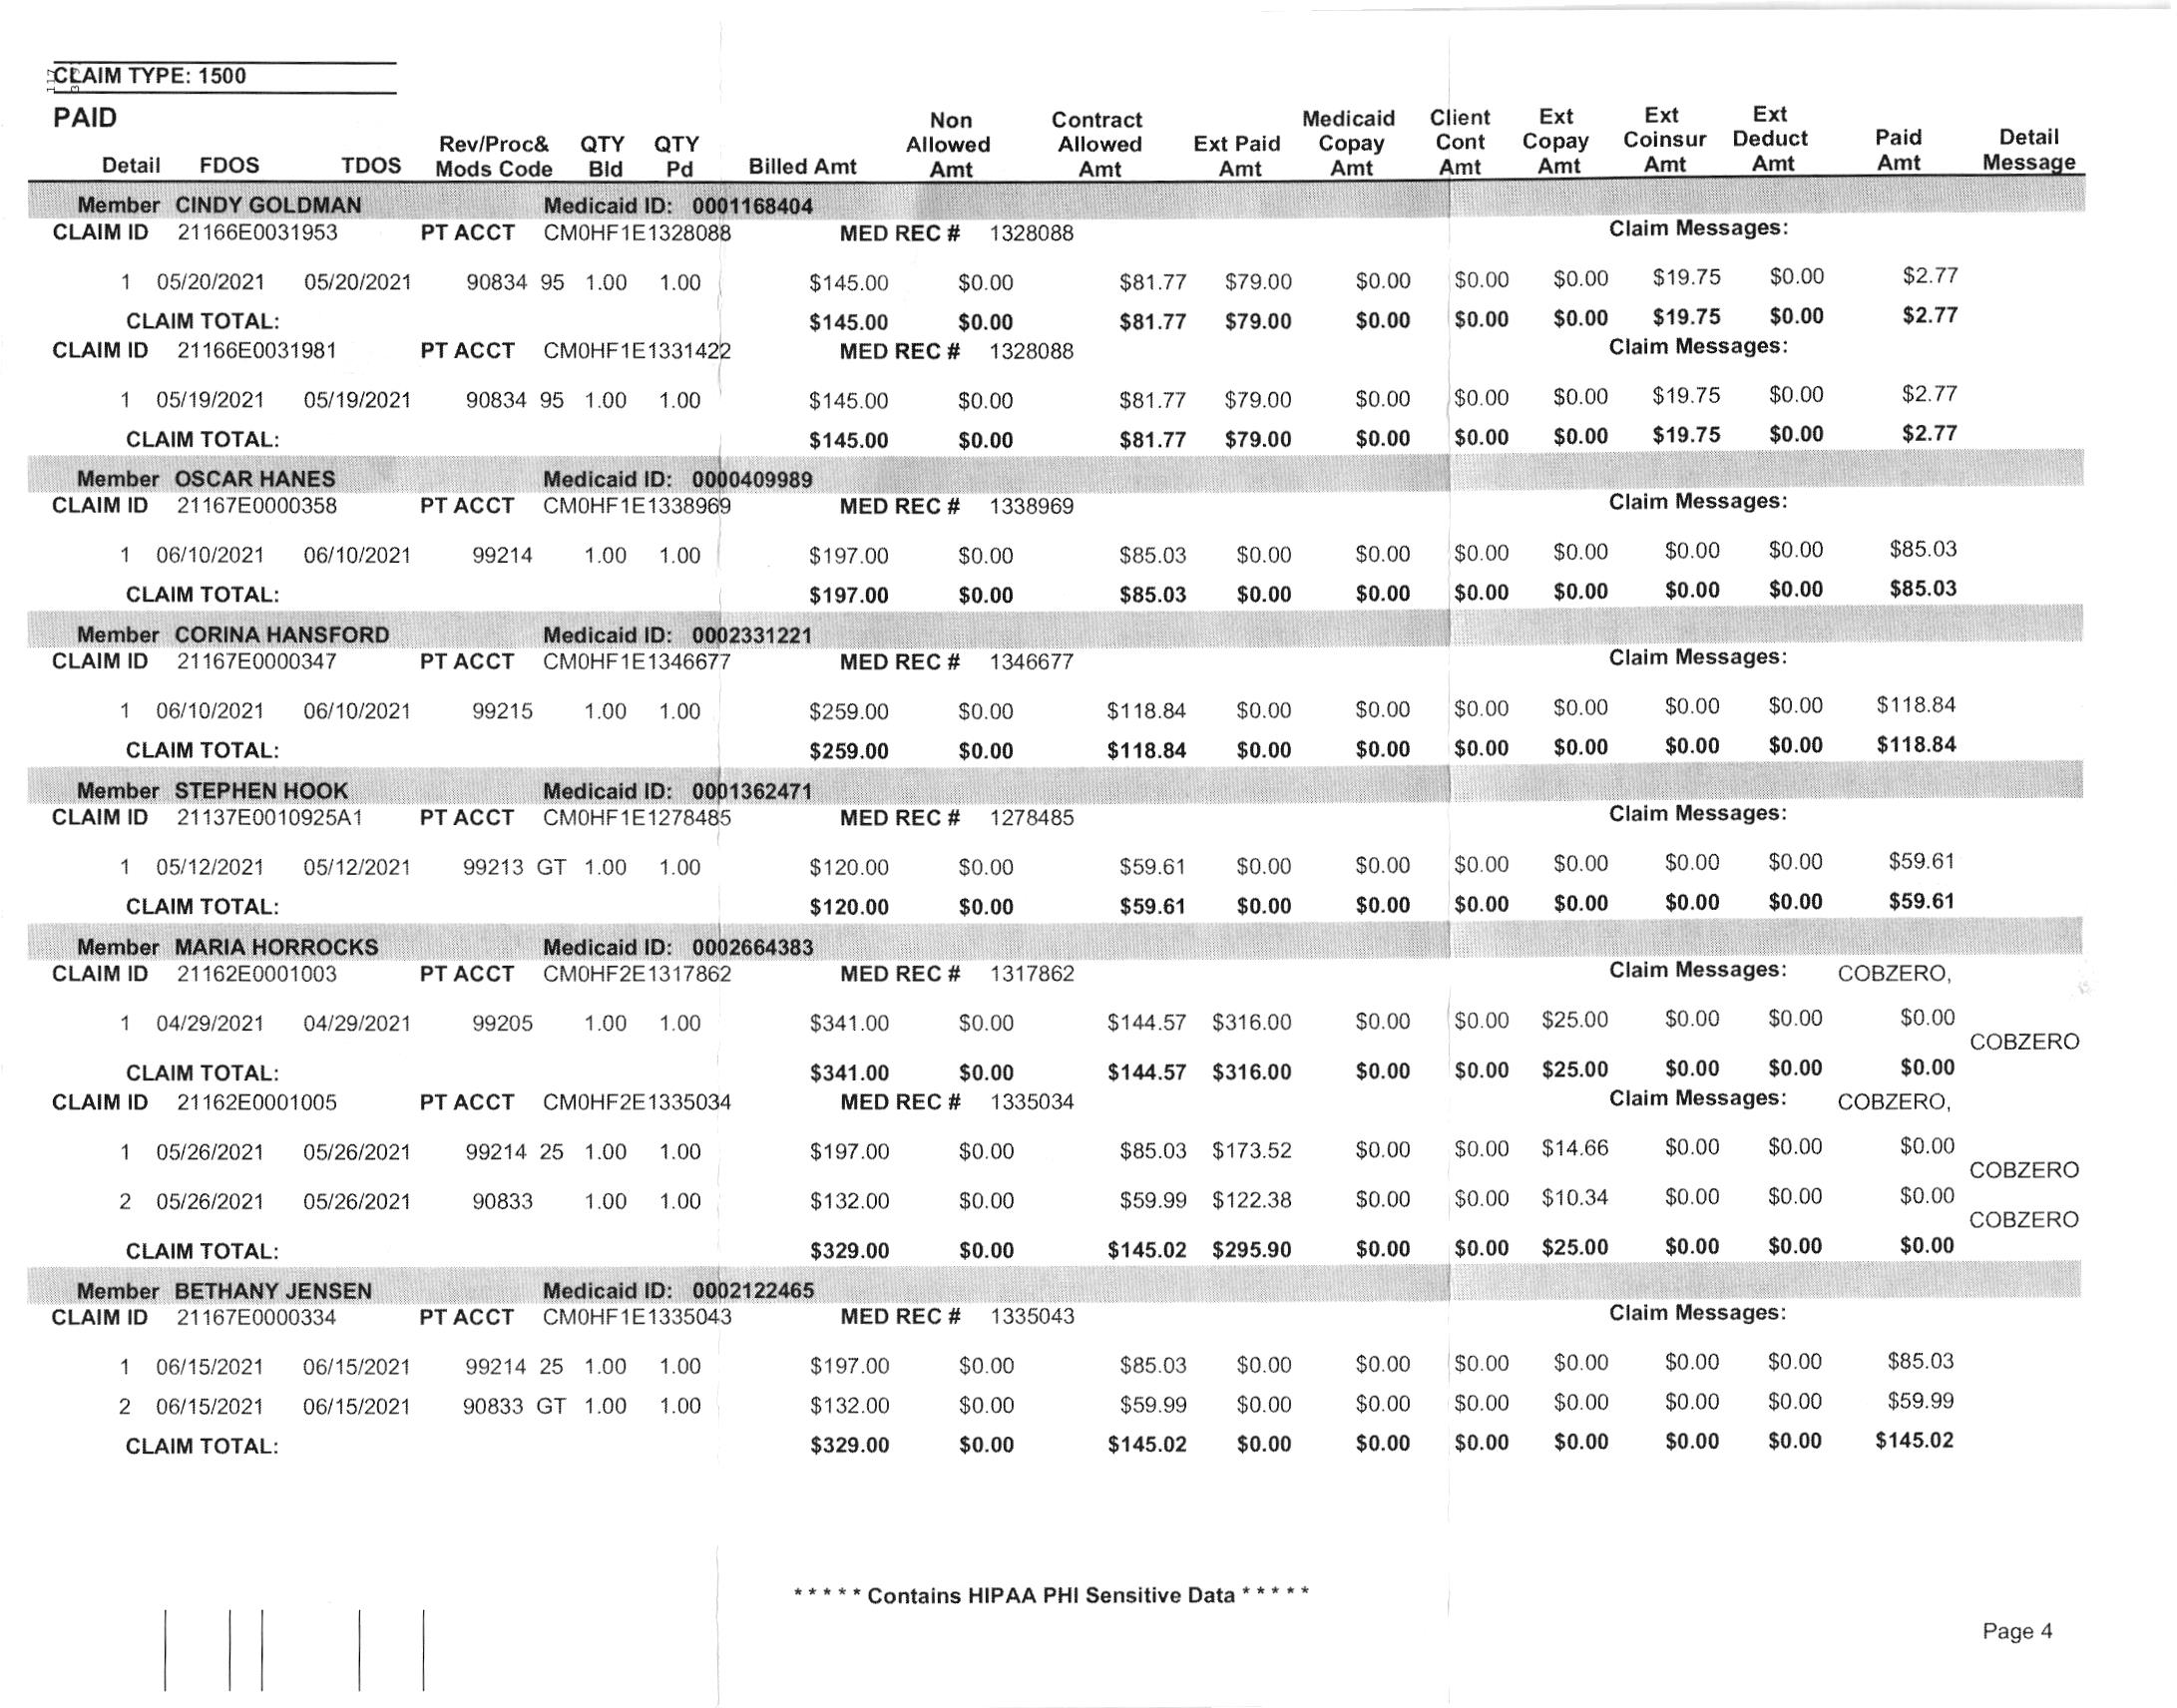table: (27, 101, 2113, 1491)
